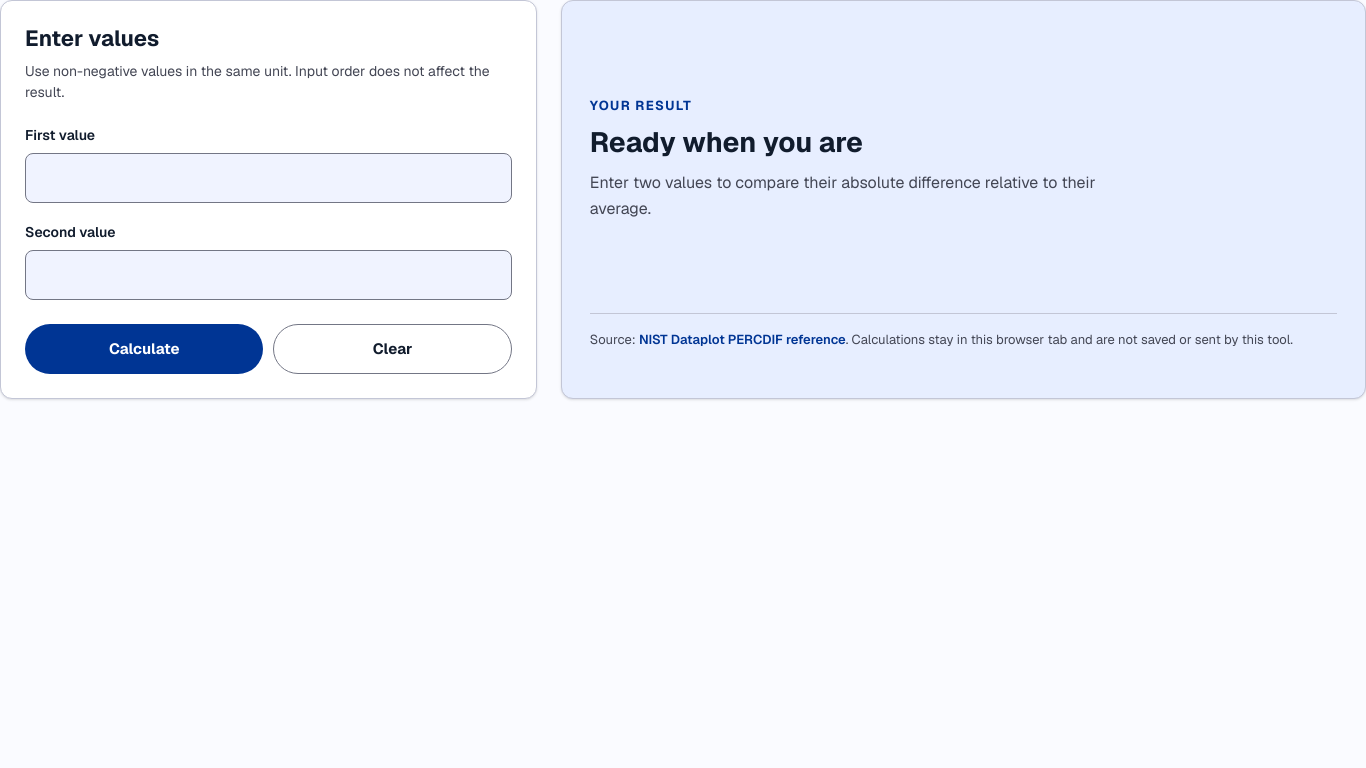
Test: percentage family shared workspace › submits difference with Enter, clears stale results on edit, and resets
Type "80" into the number field labelled "First value" at (268, 178), box x1=25 y1=153 x2=512 y2=203
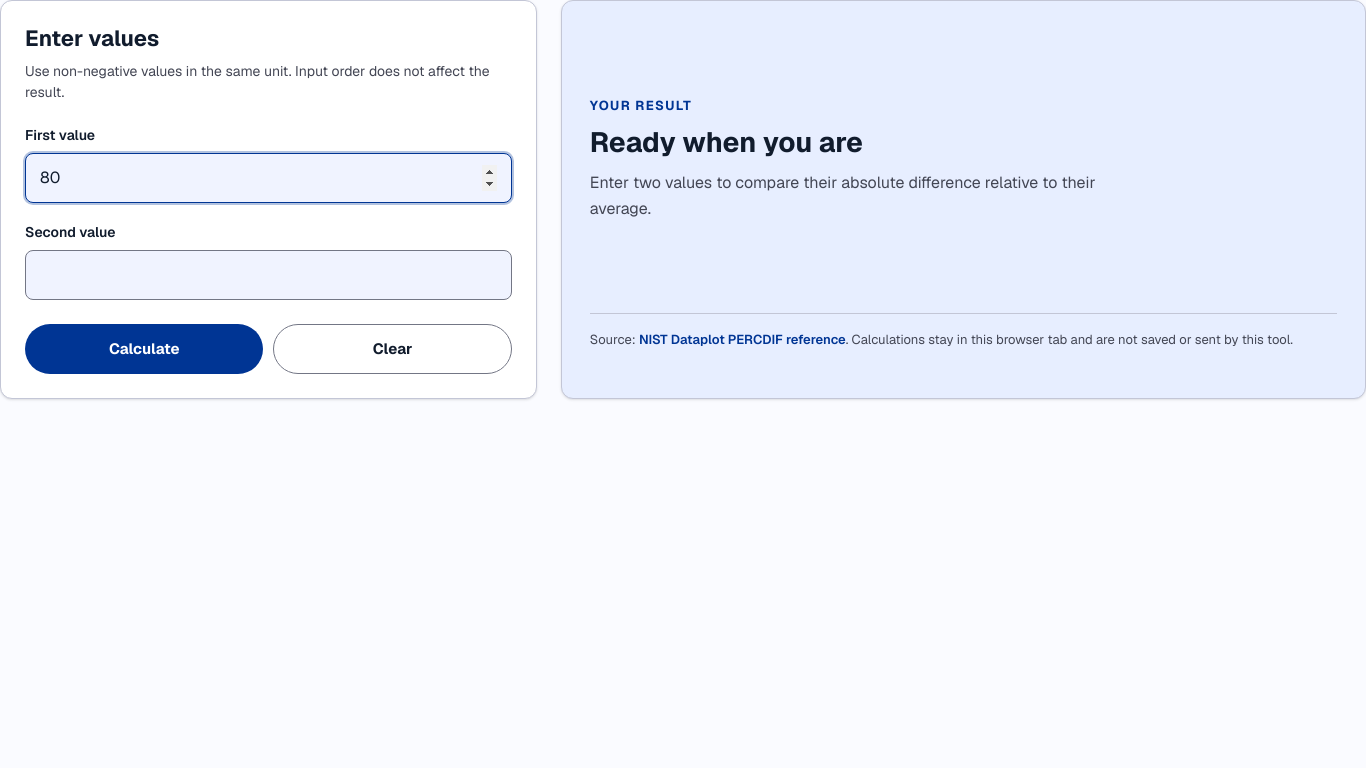
Type "100" into the number field labelled "Second value" at (268, 275), box x1=25 y1=250 x2=512 y2=300
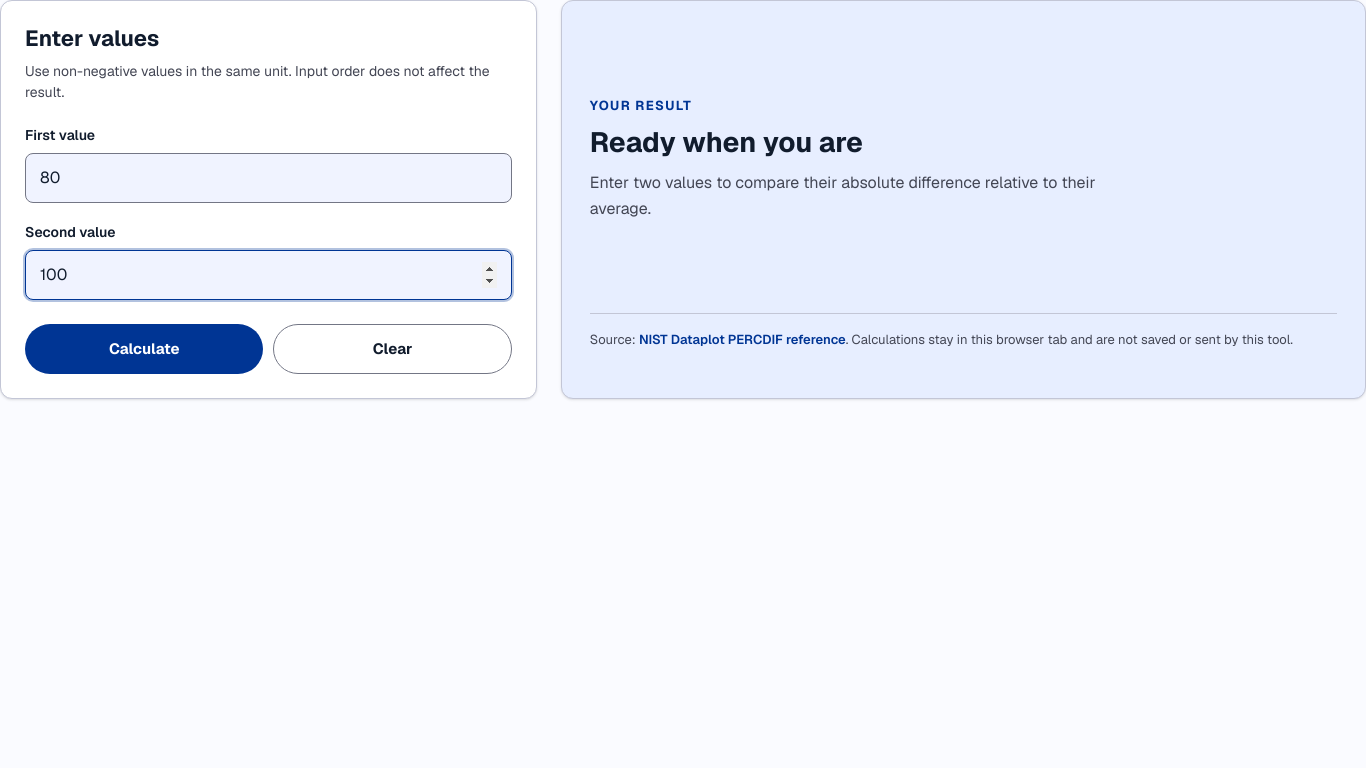
Press Enter
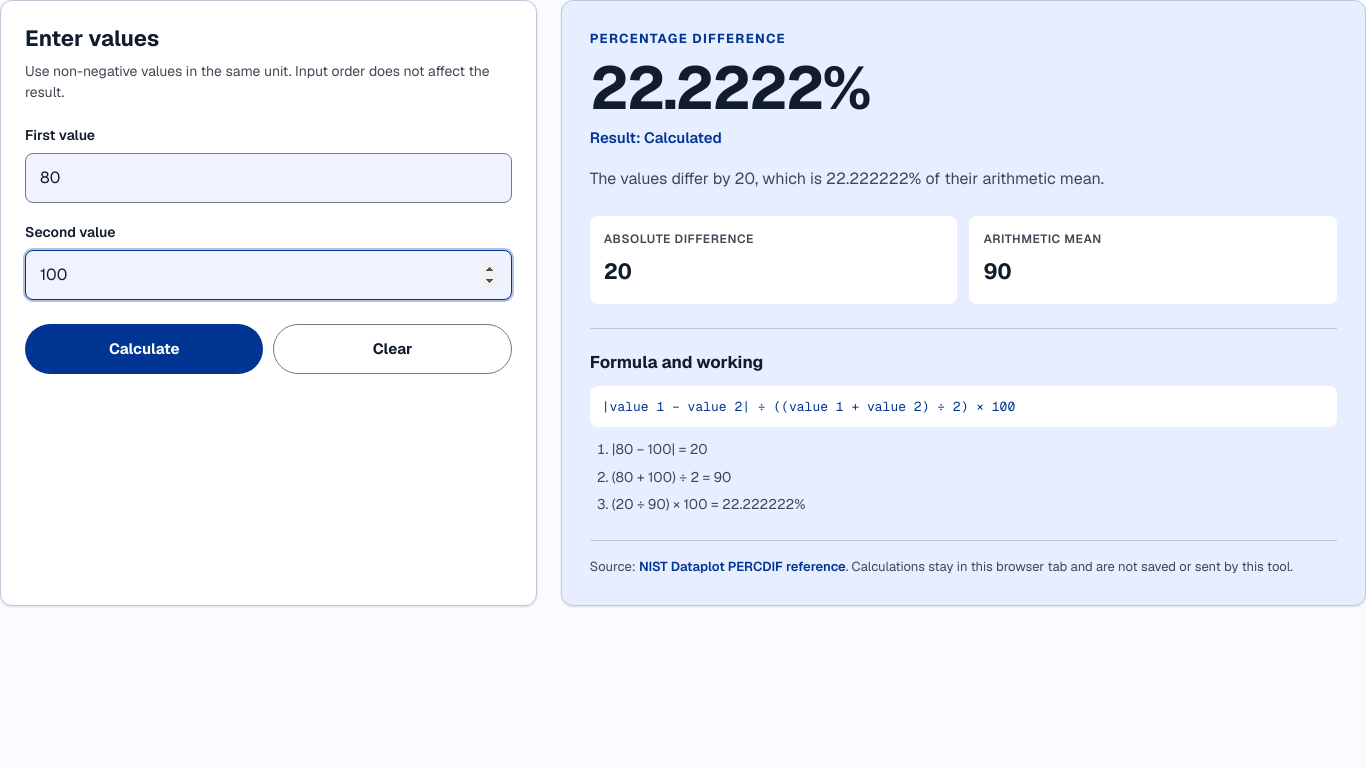
Expected: the text "Source:" is shown, x1=590 y1=558 x2=639 y2=575
Now the heading "Ready when you are" is gone
Type "0" into the number field labelled "Second value" at (268, 275), box x1=25 y1=250 x2=512 y2=300
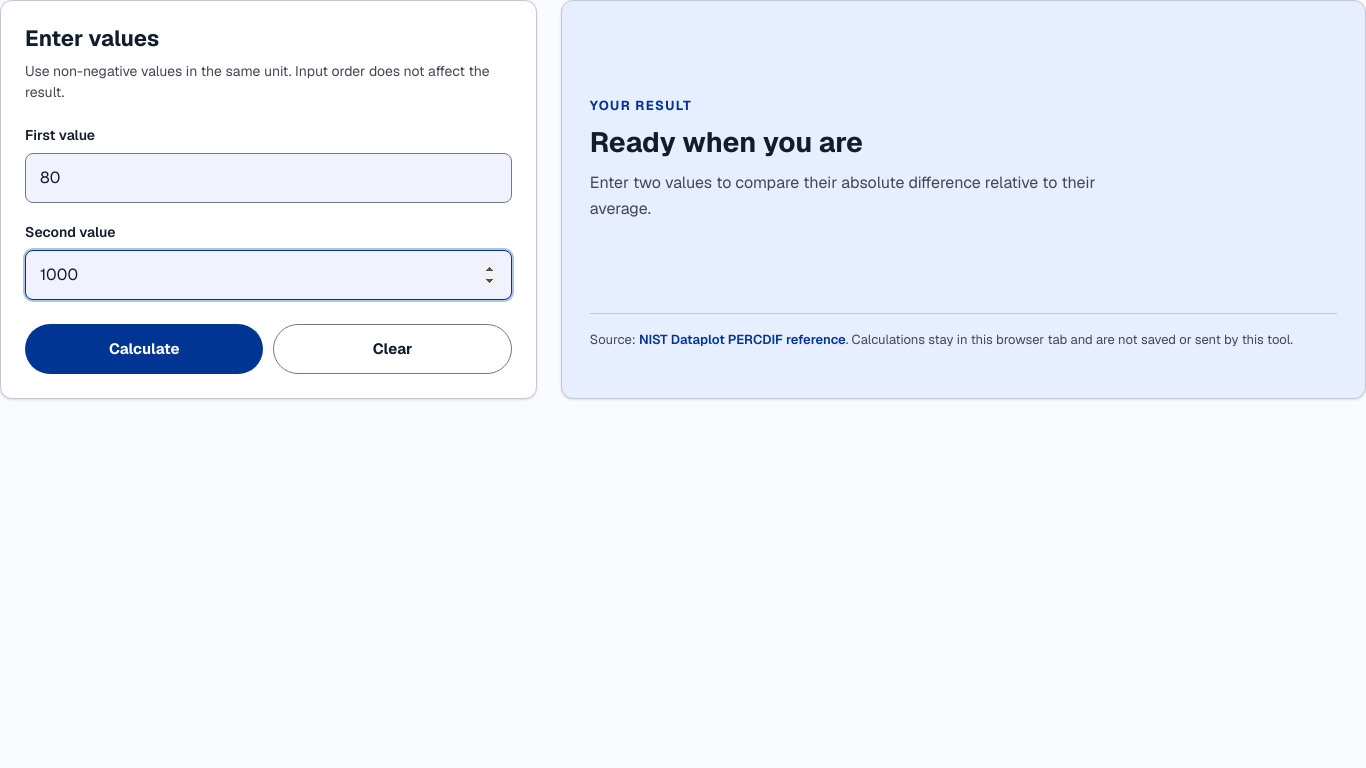
Now the heading "Ready when you are" is shown, box x1=590 y1=124 x2=863 y2=160
Click the button "Clear" at (393, 349), box x1=273 y1=324 x2=512 y2=374
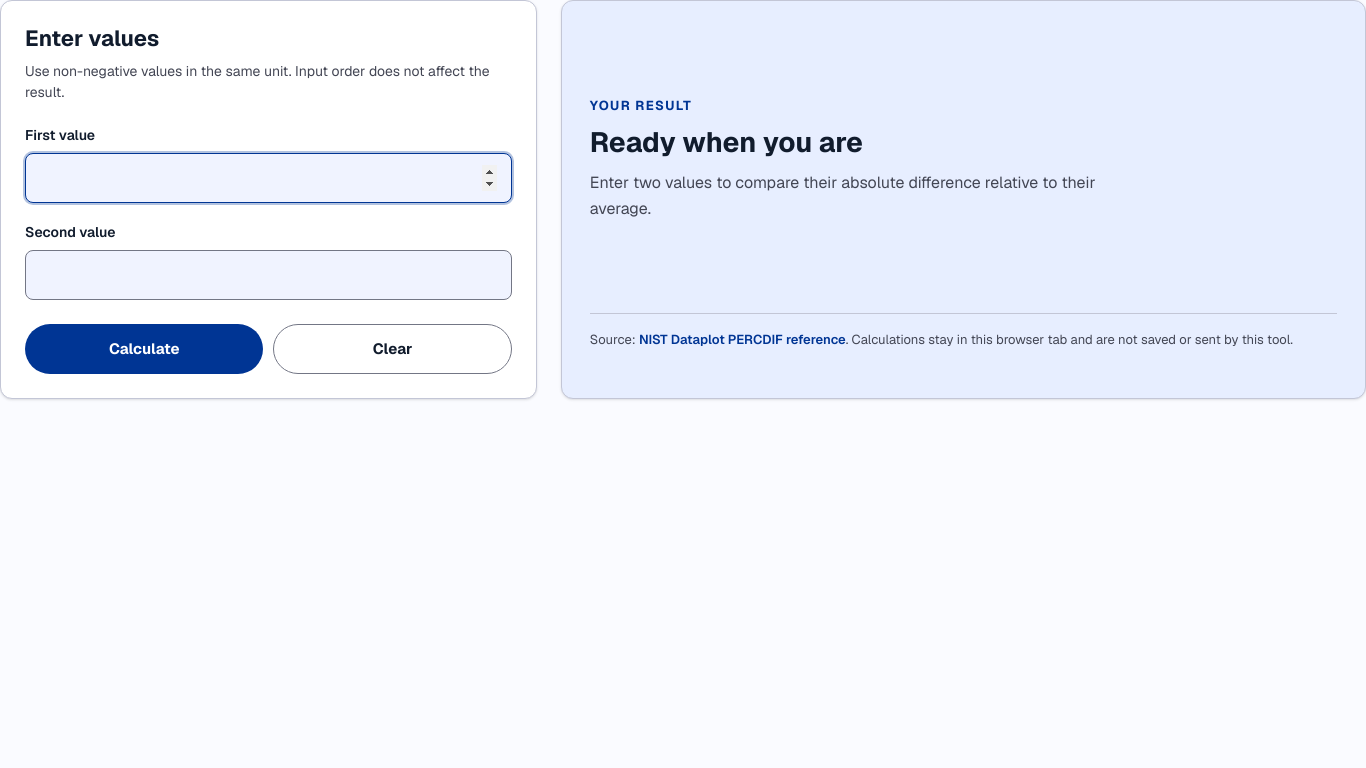
Now the number field labelled "First value" is not empty, box x1=25 y1=153 x2=512 y2=203
Now the number field labelled "Second value" is not empty, box x1=25 y1=250 x2=512 y2=300
